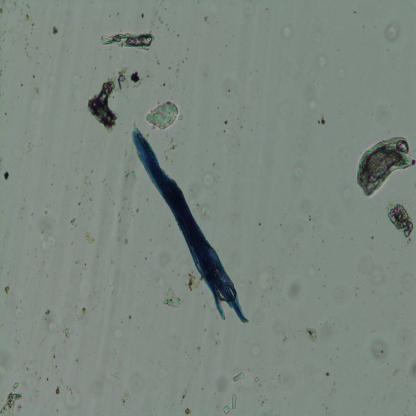Background material: (85, 81, 119, 133), (144, 101, 186, 130), (386, 203, 413, 242), (114, 194, 131, 249), (43, 343, 63, 385), (296, 196, 316, 238), (187, 183, 209, 221), (0, 380, 22, 415), (361, 262, 385, 289), (370, 99, 393, 127), (21, 6, 35, 52), (78, 176, 94, 216), (139, 268, 166, 291), (320, 312, 342, 340), (220, 72, 242, 100), (162, 133, 178, 169), (40, 198, 56, 232), (66, 382, 84, 412), (153, 2, 171, 32), (155, 246, 176, 270), (179, 372, 194, 404), (26, 369, 42, 399), (102, 360, 122, 384), (121, 152, 137, 182), (321, 379, 336, 410), (298, 326, 320, 347), (107, 277, 124, 303), (253, 301, 269, 328), (399, 271, 416, 296), (0, 334, 11, 371), (274, 319, 290, 344), (200, 169, 218, 191), (279, 364, 295, 388), (87, 281, 103, 305), (385, 20, 401, 44), (371, 339, 389, 360), (164, 287, 182, 308), (44, 309, 59, 334), (288, 160, 307, 179), (287, 280, 303, 302), (28, 72, 44, 94), (108, 324, 127, 342), (20, 204, 33, 230), (41, 232, 57, 252), (35, 256, 50, 277), (276, 103, 294, 120), (259, 274, 275, 292), (305, 366, 323, 382), (130, 71, 146, 89), (116, 67, 128, 90), (292, 136, 308, 153), (212, 379, 230, 394), (104, 173, 115, 197), (389, 310, 404, 327), (240, 4, 258, 18), (173, 55, 186, 74), (73, 303, 89, 318), (402, 374, 412, 398), (236, 273, 252, 288), (187, 274, 200, 292), (212, 333, 224, 352), (12, 302, 25, 319), (316, 52, 328, 70), (120, 390, 133, 406), (282, 23, 293, 41), (70, 154, 81, 172), (343, 186, 355, 202), (72, 346, 82, 365), (195, 341, 204, 362), (56, 293, 70, 306), (307, 266, 320, 280), (391, 364, 403, 379), (160, 366, 170, 383), (24, 140, 34, 157), (182, 347, 194, 361), (307, 98, 318, 113), (84, 228, 94, 244), (10, 336, 22, 349), (398, 350, 409, 364), (233, 371, 244, 385), (409, 358, 416, 380), (147, 68, 156, 85), (126, 206, 141, 216), (75, 260, 85, 274), (294, 360, 302, 377), (161, 78, 174, 88), (1, 168, 10, 182), (337, 68, 347, 80), (231, 393, 238, 410), (254, 345, 263, 358), (260, 396, 268, 410), (200, 13, 210, 24), (52, 23, 60, 36), (341, 322, 350, 333), (317, 116, 326, 126), (70, 216, 78, 227), (64, 327, 72, 338), (139, 10, 147, 20), (255, 375, 261, 388), (152, 91, 159, 102), (152, 55, 159, 65), (54, 387, 60, 397), (223, 118, 230, 126), (355, 285, 359, 299), (113, 347, 118, 358), (5, 286, 10, 296), (148, 236, 154, 244), (370, 231, 375, 240), (185, 407, 191, 414), (275, 76, 281, 83), (166, 64, 172, 71), (175, 30, 180, 38), (63, 184, 68, 192), (320, 238, 325, 245), (361, 22, 366, 29), (111, 257, 115, 265), (239, 122, 243, 129), (128, 314, 132, 320), (326, 371, 330, 377), (198, 0, 202, 5), (258, 221, 261, 226), (353, 10, 357, 13), (144, 256, 147, 260), (323, 284, 326, 288)
Cellulose filter fibre: (356, 132, 416, 196), (101, 28, 155, 51)
Cotton: (131, 121, 250, 325)
